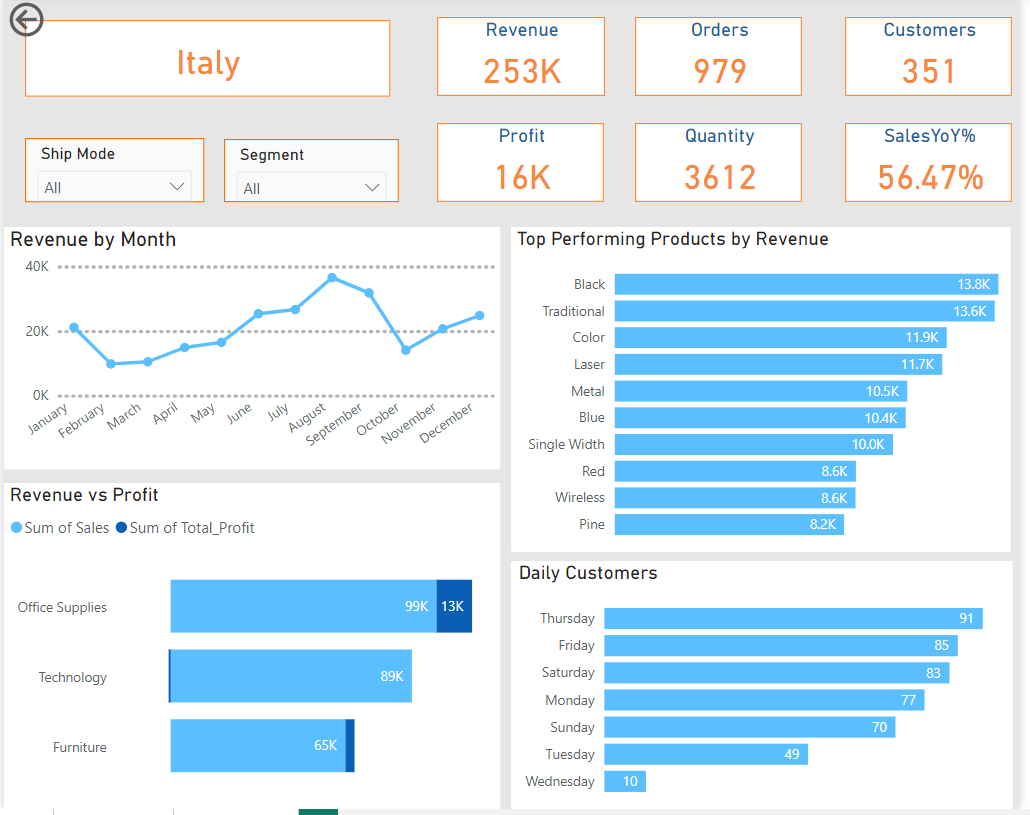

The dashboard page shown, as its layout file describes it:
{"tool":"powerbi","page":{"name":"Country  Details","canvas":[900,720],"ordinal":4},"visuals":[{"type":"card","title":"Country","fields":{"Values":["Min(ListOfOrders.Country)"]},"box":[19,20.1,323.7,68.1],"z":0},{"type":"donutChart","title":"Revenue vs Profit","fields":{"Y":["Sum(OrderBreakdown.Sales)"],"Category":["ListOfOrders.Ship Mode"]},"box":[0,430.9,439.8,289.1],"z":1000},{"type":"cardVisual","fields":{"Data":["OrderBreakdown.Total Sales"]},"box":[913.9,0,248.4,119.4],"z":2000},{"type":"actionButton","box":[0,0,100,40],"z":3000},{"type":"card","title":"Revenue","fields":{"Values":["OrderBreakdown.Total Sales"]},"box":[384,17.9,149,70],"z":4000},{"type":"card","title":"Profit","fields":{"Values":["OrderBreakdown.Total Profit"]},"box":[384,111.6,148.5,70.3],"z":5000},{"type":"card","title":"Customers","fields":{"Values":["ListOfOrders.Customers"]},"box":[745.7,17.9,148.5,70.3],"z":6000},{"type":"card","title":"Quantity","fields":{"Values":["OrderBreakdown.Quantity Sold"]},"box":[559.3,111.6,148.5,70.3],"z":7000},{"type":"card","title":"Orders","fields":{"Values":["ListOfOrders.Orders"]},"box":[559.3,17.9,148.5,70.3],"z":8000},{"type":"treemap","title":"Top Performing Products by Revenue","fields":{"Group":["OrderBreakdown.Product Sub Category"],"Values":["Sum(OrderBreakdown.Sales)"]},"box":[449.9,204.3,443.2,288],"z":9000},{"type":"lineChart","title":"Revenue by Month","fields":{"Y":["OrderBreakdown.Total Sales"],"Category":["ListOfOrders.Order Date.Variation.Date Hierarchy.Month"],"Series":["ListOfOrders.Segment"]},"box":[0,204.3,439.8,215.4],"z":10000},{"type":"slicer","fields":{"Values":["ListOfOrders.Ship Mode"]},"box":[19,125,158.5,56.9],"z":11000},{"type":"slicer","fields":{"Values":["ListOfOrders.Segment"]},"box":[195.3,126.1,155.2,55.8],"z":12000},{"type":"card","title":"SalesYoY%","fields":{"Values":["ListOfOrders.Sales YoY%"]},"box":[745.7,111.6,148.5,70.3],"z":13000},{"type":"scatterChart","title":"Impact of Selling Price on Revenue","fields":{"X":["OrderBreakdown.Selling Price"],"Y":["OrderBreakdown.Sales"],"Size":["Count(OrderBreakdown.Profit)"]},"box":[449.9,500.7,443.1,219.3],"z":14000},{"type":"lineChart","title":"Count of Daily  orders","fields":{"Y":["ListOfOrders.Customers"],"Category":["ListOfOrders.Order Date.Variation.Date Hierarchy.Day"]},"box":[451,500.1,443.2,219.9],"z":15000},{"type":"textbox","box":[518.1,223.3,364,27.9],"z":16000}]}

Visuals, with their boxes in screenshot pixels (x1, y1, x2, y2), scaled from the page's 900x720 canvas onto the 1030x815 screenshot:
"Country" card: crop(22, 23, 392, 100)
"Revenue vs Profit" donutChart: crop(0, 488, 503, 814)
actionButton: crop(0, 0, 114, 45)
"Revenue" card: crop(439, 20, 610, 99)
"Profit" card: crop(439, 126, 609, 206)
"Customers" card: crop(853, 20, 1023, 100)
"Quantity" card: crop(640, 126, 810, 206)
"Orders" card: crop(640, 20, 810, 100)
"Top Performing Products by Revenue" treemap: crop(515, 231, 1022, 557)
"Revenue by Month" lineChart: crop(0, 231, 503, 475)
slicer - ListOfOrders.Ship Mode: crop(22, 141, 203, 206)
slicer - ListOfOrders.Segment: crop(224, 143, 401, 206)
"SalesYoY%" card: crop(853, 126, 1023, 206)
"Impact of Selling Price on Revenue" scatterChart: crop(515, 567, 1022, 814)
"Count of Daily  orders" lineChart: crop(516, 566, 1023, 814)
textbox: crop(593, 253, 1010, 284)
